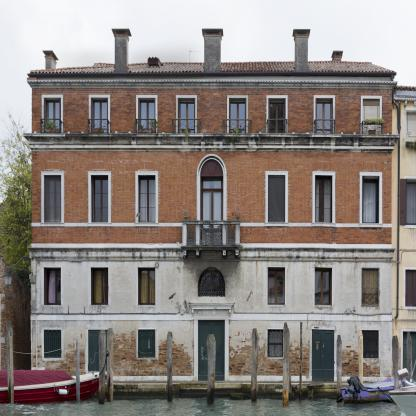Balcony: (182, 220, 241, 250)
Building Outline: (23, 28, 400, 381)
Cornice: (189, 304, 233, 309)
Deco: (200, 159, 223, 176), (195, 250, 200, 255), (183, 250, 187, 256), (235, 250, 239, 255), (222, 250, 226, 255)
Door: (198, 320, 225, 381), (201, 189, 223, 246), (312, 329, 334, 381), (88, 330, 110, 381)
Facade: (24, 28, 401, 381)
Floor: (31, 148, 392, 250), (31, 250, 392, 320)
Floor Slab: (31, 143, 392, 149), (31, 244, 392, 250), (31, 315, 392, 321)
Ground Floor: (31, 314, 392, 381)
Molding: (27, 247, 396, 259), (28, 142, 395, 152), (27, 80, 398, 89)
Roof: (29, 60, 395, 74)
Sill: (40, 222, 65, 227), (134, 222, 159, 227), (359, 223, 383, 228), (88, 222, 112, 227), (264, 223, 289, 227), (311, 223, 336, 227)
Top Floor: (31, 81, 392, 149)
Window: (198, 267, 225, 297), (362, 176, 379, 223), (44, 175, 61, 222), (91, 176, 108, 223), (139, 176, 156, 223), (268, 176, 285, 223), (315, 176, 332, 223), (138, 267, 155, 305), (44, 267, 61, 305), (91, 267, 108, 305), (315, 267, 332, 305), (268, 267, 285, 305), (362, 268, 379, 305), (91, 97, 108, 133), (44, 98, 61, 133), (138, 98, 155, 133), (229, 98, 246, 133), (178, 98, 195, 133), (269, 98, 286, 133), (316, 98, 333, 133), (363, 99, 380, 134), (268, 330, 285, 358), (362, 330, 379, 358), (44, 330, 61, 357), (138, 330, 155, 357), (200, 177, 223, 189)
